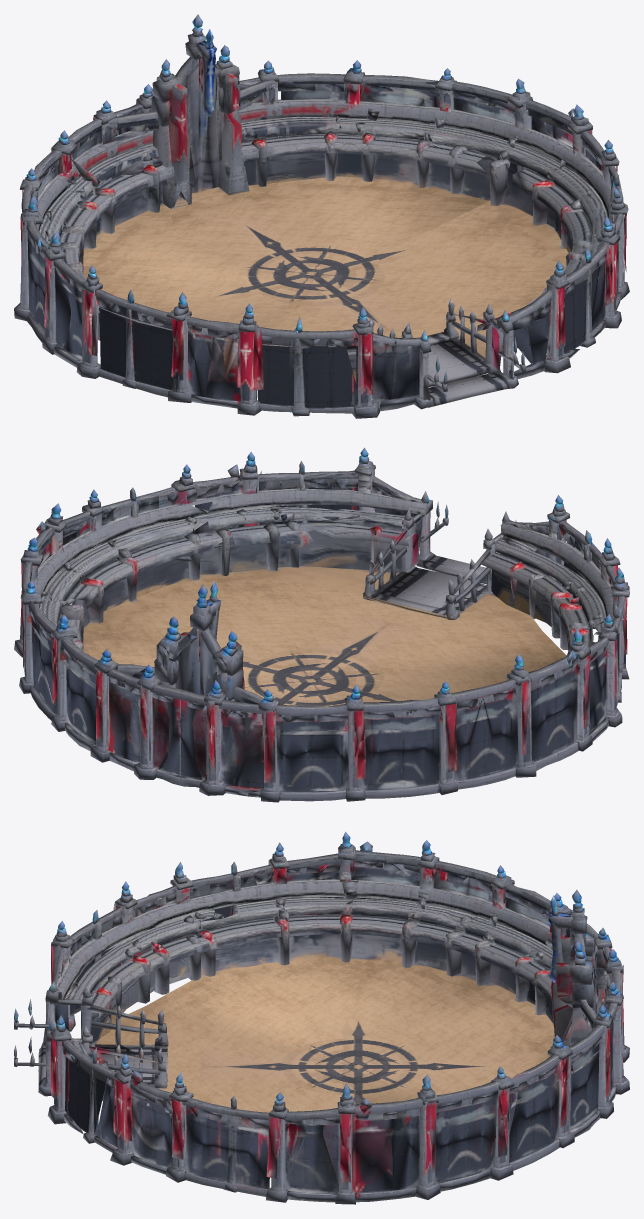
The model's file is Stage.fbx.
3 renders of one model, top to bottom at view 1: azimuth 30°, elevation 25°; view 2: azimuth 150°, elevation 25°; view 3: azimuth 270°, elevation 25°, orthographic.
Visible parts, largest first — view 1: Mesh_0; view 2: Mesh_0; view 3: Mesh_0.
Part boxes in pixels (box(x1,y1,x2,y2)): Mesh_0: box(14, 14, 629, 418); Mesh_0: box(14, 447, 629, 802); Mesh_0: box(14, 831, 629, 1204).
Size of the model in its own units: 5000 by 1646 by 4985.
Materials: 1 (1 with a texture image).
